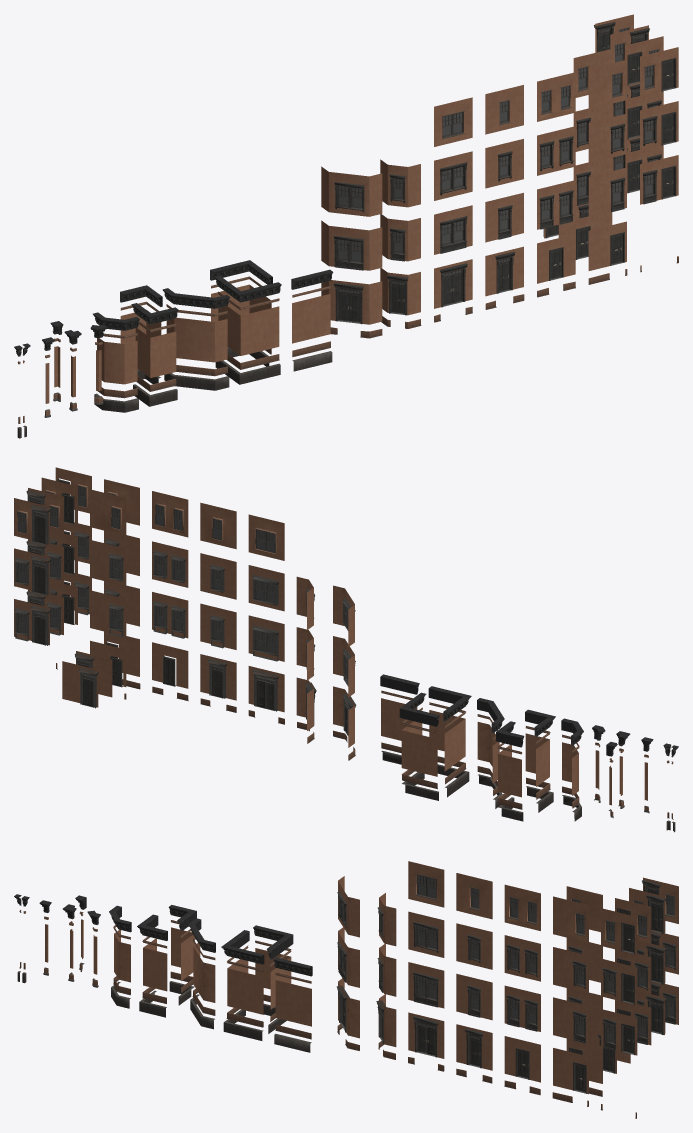
File: facade_kit.glb
The picture shows the model from 3 angles, top to bottom: view 1: azimuth 30°, elevation 25°; view 2: azimuth 150°, elevation 25°; view 3: azimuth 330°, elevation 25°; orthographic projection. The views are drawn at different scales.
Parts seen in each view (by area): view 1: wall_standard_corner_large_01, wall_standard_angled_large_01, wall_window_angled_large_02, wall_window_angled_large_01, wall_standard_corner_small_01, wall_standard_standard_01, wall_standard_angled_small_01, wall_window_offset_small_05, wall_window_centered_small_03, wall_window_centered_small_02, wall_door_angled_large_01, wall_window_angled_small_02 (+38 smaller); view 2: wall_standard_corner_large_02, wall_standard_corner_large_01, wall_window_offset_small_06, wall_window_centered_small_03, wall_window_centered_small_02, wall_window_offset_small_04, wall_window_centered_small_01, wall_window_offset_small_02, wall_window_centered_double_03, wall_door_centered_small_02, door_window_small_04, wall_window_centered_large_03 (+38 smaller); view 3: wall_standard_corner_large_01, wall_standard_standard_01, wall_window_centered_small_03, wall_window_offset_small_05, wall_window_centered_small_02, wall_window_offset_small_03, wall_window_centered_small_01, wall_window_centered_double_03, wall_door_centered_small_02, wall_standard_corner_small_01, wall_window_offset_small_01, wall_window_centered_large_03 (+58 smaller).
Part boxes in pixels (x1,y1,x2,y2): wall_standard_corner_large_01: (218, 306, 279, 355); wall_standard_angled_large_01: (166, 317, 227, 362); wall_window_angled_large_02: (321, 166, 382, 216); wall_window_angled_large_01: (321, 220, 382, 270); wall_standard_corner_small_01: (135, 328, 176, 377); wall_standard_standard_01: (292, 294, 330, 343); wall_standard_angled_small_01: (97, 338, 137, 384); wall_window_offset_small_05: (588, 59, 626, 109); wall_window_centered_small_03: (485, 85, 523, 134); wall_window_centered_small_02: (485, 139, 523, 188); wall_door_angled_large_01: (321, 280, 382, 324); wall_window_angled_small_02: (380, 159, 420, 207); wall_standard_corner_large_02: (401, 721, 437, 776); wall_standard_corner_large_01: (429, 710, 465, 771); wall_window_offset_small_06: (90, 489, 126, 535); wall_window_centered_small_03: (200, 502, 236, 549); wall_window_centered_small_02: (200, 553, 236, 599); wall_window_offset_small_04: (90, 540, 126, 586); wall_window_centered_small_01: (200, 603, 236, 649); wall_window_offset_small_02: (90, 590, 126, 636); wall_window_centered_double_03: (152, 491, 188, 537); wall_door_centered_small_02: (152, 642, 188, 688); door_window_small_04: (14, 605, 51, 645); wall_window_centered_large_03: (248, 514, 284, 560); wall_standard_corner_large_01: (227, 959, 263, 1014); wall_standard_standard_01: (275, 980, 311, 1026); wall_window_centered_small_03: (456, 873, 492, 919); wall_window_offset_small_05: (553, 896, 588, 942); wall_window_centered_small_02: (456, 923, 492, 969); wall_window_offset_small_03: (553, 947, 588, 993); wall_window_centered_small_01: (456, 973, 492, 1020); wall_window_centered_double_03: (504, 884, 540, 930); wall_door_centered_small_02: (504, 1036, 540, 1082); wall_standard_corner_small_01: (143, 938, 167, 991); wall_window_offset_small_01: (553, 997, 588, 1043); wall_window_centered_large_03: (408, 861, 444, 907).
Bounding box in the file's own units: 51.53 × 17 × 6.67.
Materials: 5 (5 with a texture image).
